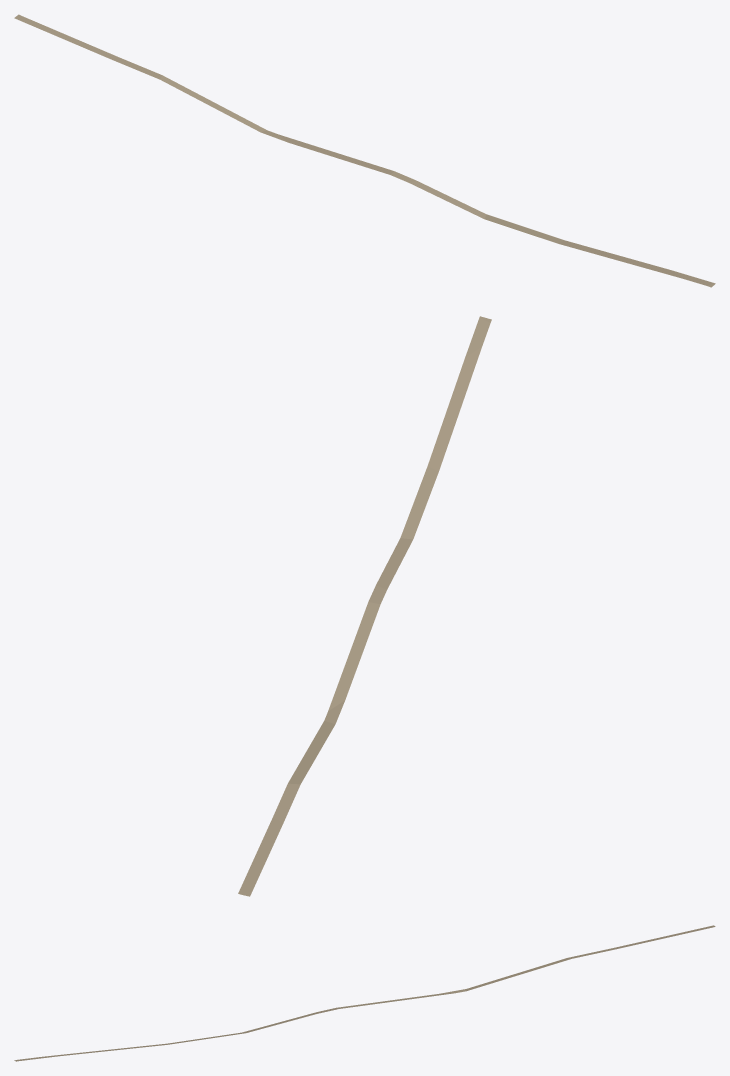
Rendered from farm_-7_14_track.glb.
3 views of the same model, one above another, from view 1: azimuth 30°, elevation 25°; view 2: azimuth 150°, elevation 25°; view 3: azimuth 270°, elevation 25° (orthographic). The views are drawn at different scales.
Parts seen in each view (by area): view 1: geometry_0; view 2: geometry_0; view 3: geometry_0.
Part boxes in pixels (x1,y1,x2,y2): geometry_0: [14, 14, 715, 287]; geometry_0: [238, 316, 491, 896]; geometry_0: [14, 925, 715, 1061].
Bounding box in the file's own units: 145 × 19.48 × 376.
